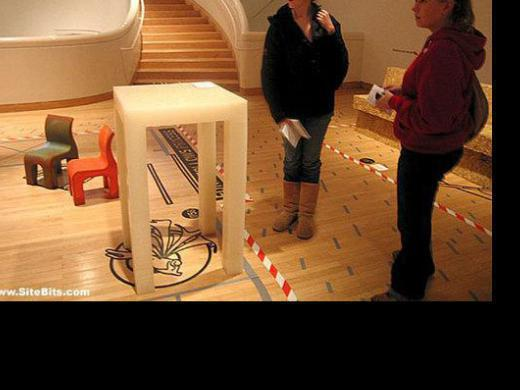Escaleras: (132, 0, 246, 95)
